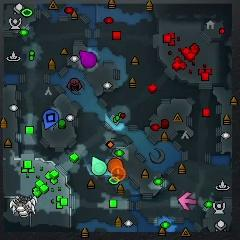Other: (111, 167, 126, 182)
p1: (43, 109, 60, 130)
p2: (90, 155, 107, 176)
p3: (79, 51, 98, 68)
p5: (107, 158, 127, 179)
x1: (178, 190, 197, 211)
